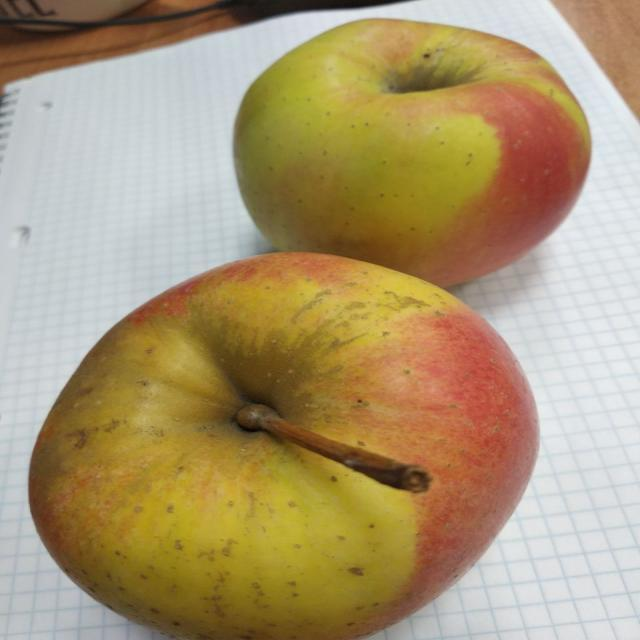Fresh Apple: (36, 266, 533, 640), (228, 15, 605, 285)
